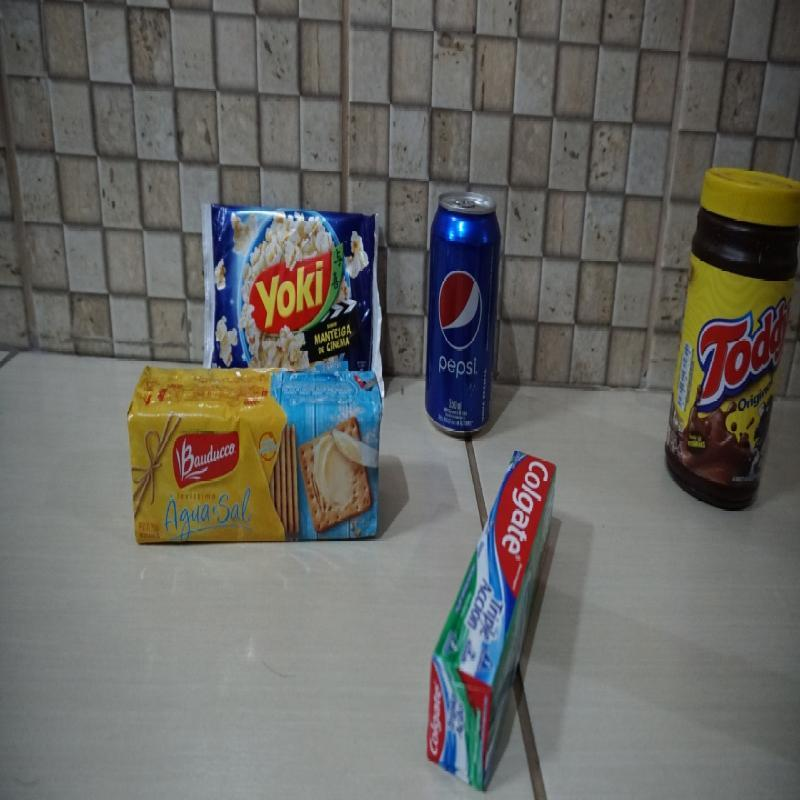Chocolate Powder: (668, 163, 796, 505)
Cracker: (129, 372, 382, 546)
Popcorn: (199, 199, 388, 362)
Soda can: (425, 192, 501, 436)
Toothpaste: (426, 448, 556, 789)
